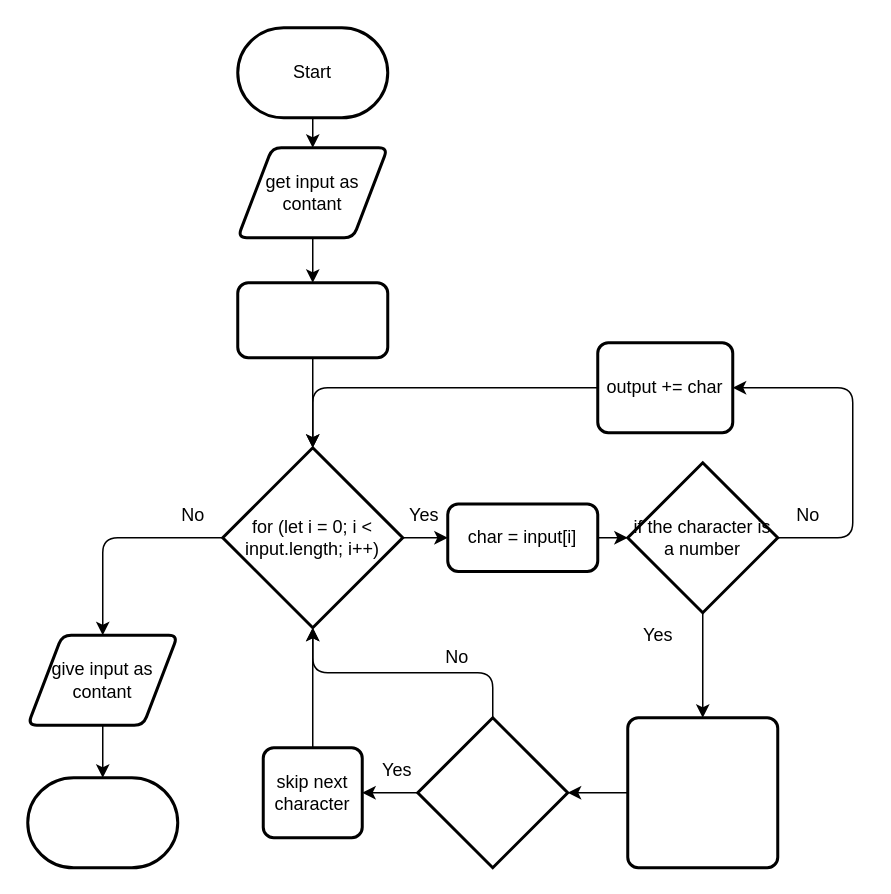
This 891x894 diagram has some shape labels left out. Here are the shapes that lost their labels. From the top down, the centre of each, then its label:
the point at 312,319: output = ''
the point at 492,792: if next character is unidentified
the point at 702,792: make the next character the amount of the number
the point at 102,822: Stop
